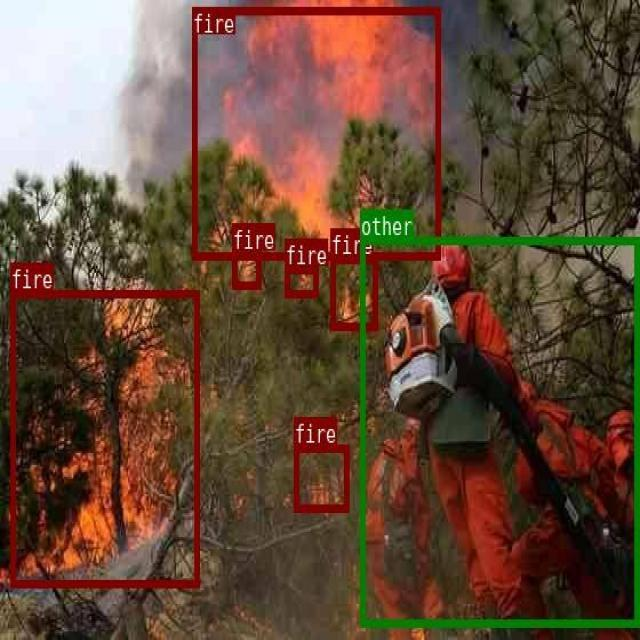fire: (192, 6, 440, 258), (10, 289, 199, 586), (293, 443, 348, 511), (330, 255, 376, 329), (231, 250, 260, 288), (284, 264, 317, 296)
